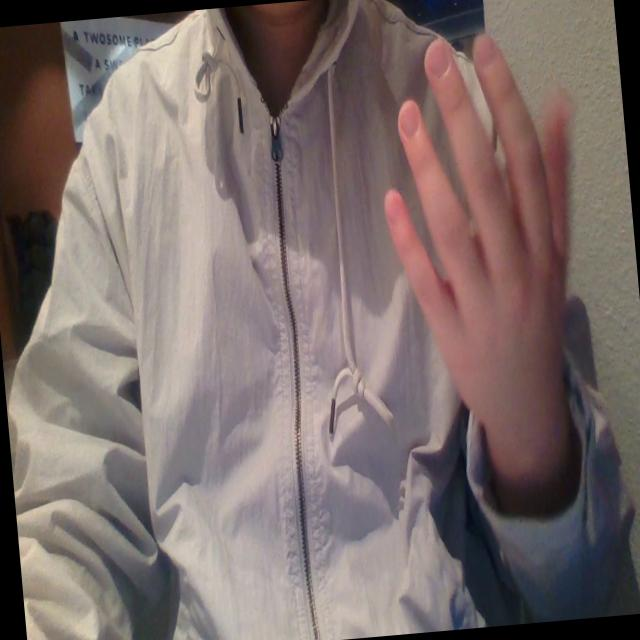hand: (366, 20, 604, 473)
